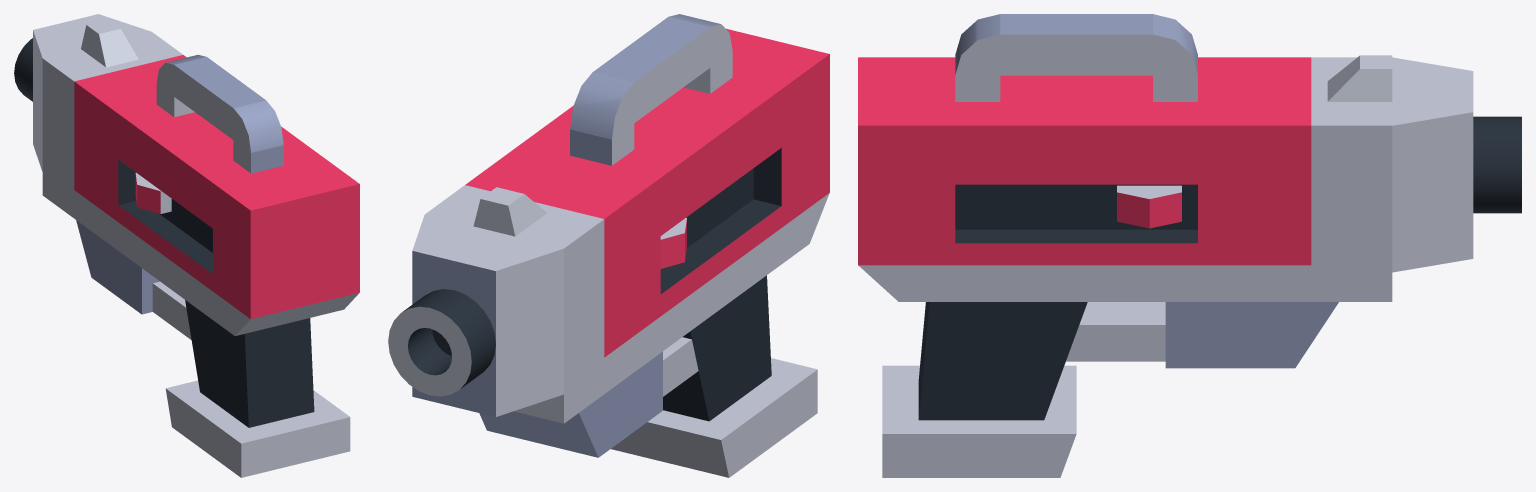
The model's file is blasterB.dae.
3 views of the same model, side by side, from view 1: azimuth 30°, elevation 25°; view 2: azimuth 150°, elevation 25°; view 3: azimuth 270°, elevation 25° (orthographic). The views are drawn at different scales.
Parts seen in each view (by area): view 1: blasterB; view 2: blasterB; view 3: blasterB.
Part boxes in pixels (left/top/right/bottom): blasterB: left=14, top=14, right=359, bottom=477; blasterB: left=388, top=14, right=829, bottom=477; blasterB: left=858, top=14, right=1521, bottom=477.
Bounding box in the file's own units: 0.1 × 0.2859 × 0.41.
